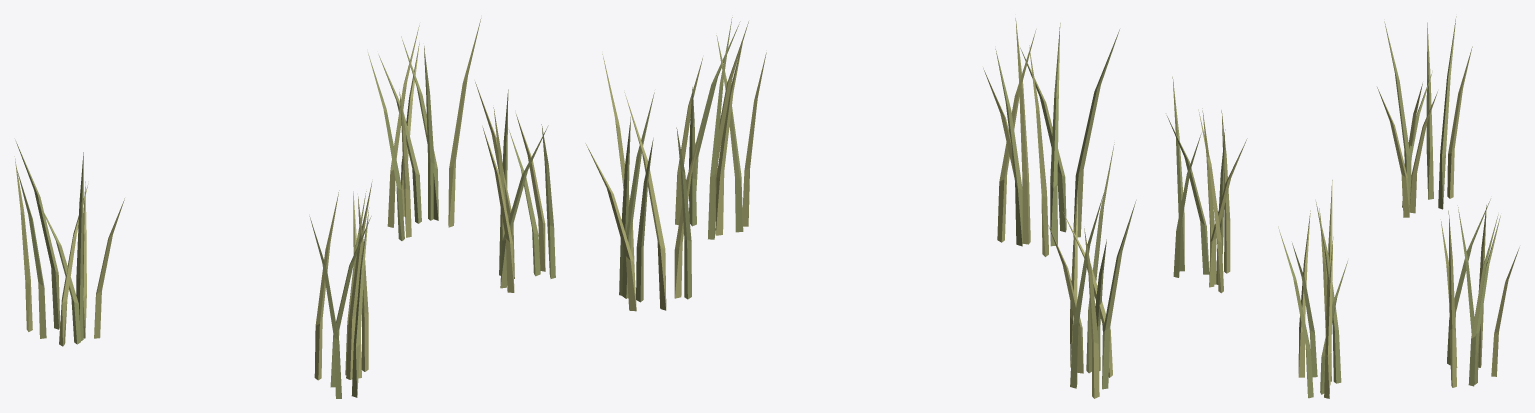
File: 50-Vegetacion_hierba_alta.glb
3 renders of one model, left to right at view 1: azimuth 30°, elevation 25°; view 2: azimuth 150°, elevation 25°; view 3: azimuth 270°, elevation 25°, orthographic. The views are drawn at different scales.
Parts seen in each view (by area): view 1: SM_HierbaBrizna_M_Hierba_Alta_Osc, SM_HierbaBrizna_M_Hierba_Alta; view 2: SM_HierbaBrizna_M_Hierba_Alta_Osc, SM_HierbaBrizna_M_Hierba_Alta; view 3: SM_HierbaBrizna_M_Hierba_Alta_Osc, SM_HierbaBrizna_M_Hierba_Alta.
Boxes of the visible parts, x1,y1,x2,y2 form: SM_HierbaBrizna_M_Hierba_Alta_Osc: (15,36,555,398); SM_HierbaBrizna_M_Hierba_Alta: (14,18,545,380); SM_HierbaBrizna_M_Hierba_Alta_Osc: (619,17,1136,389); SM_HierbaBrizna_M_Hierba_Alta: (585,18,1112,398); SM_HierbaBrizna_M_Hierba_Alta_Osc: (1166,16,1500,398); SM_HierbaBrizna_M_Hierba_Alta: (1198,46,1519,398).
Bounding box in the file's own units: 1.01 × 0.4164 × 0.7066.
